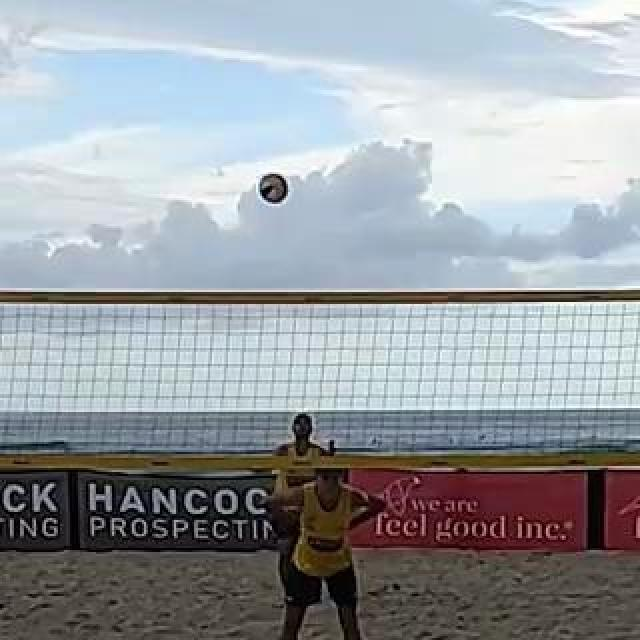volleyball: (259, 173, 289, 203)
